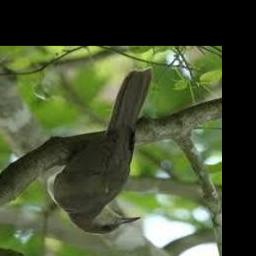Cuckoo: (47, 68, 152, 235)
